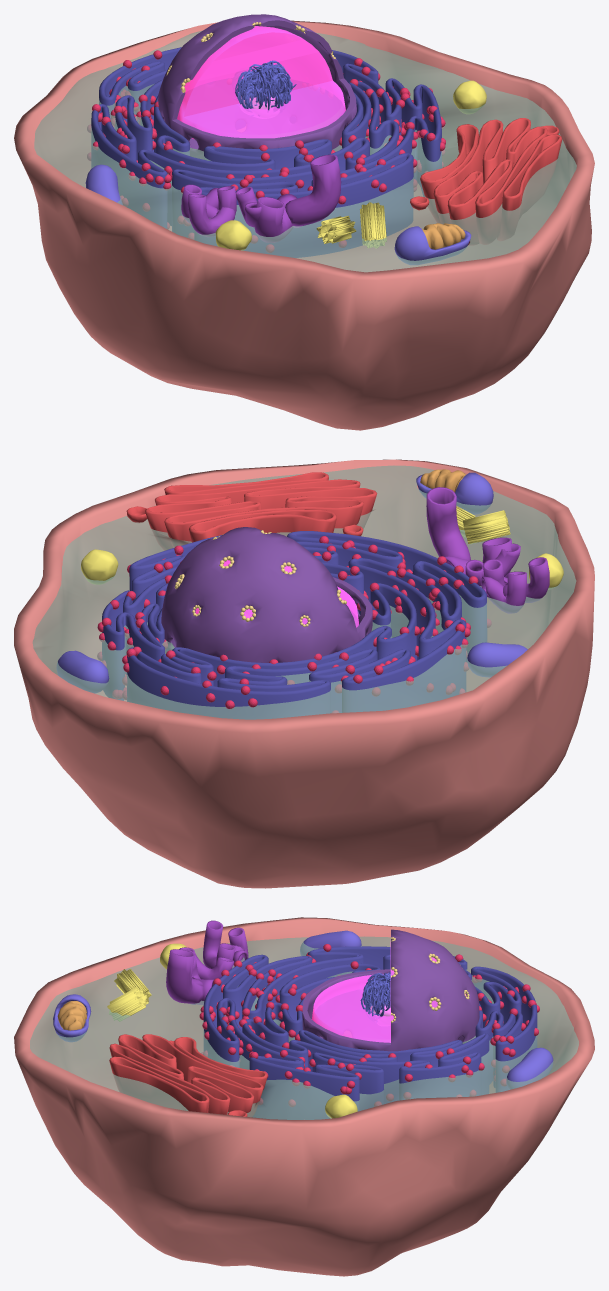
The model's file is animal-cell.glb.
The picture shows the model from 3 angles, top to bottom: view 1: azimuth 30°, elevation 25°; view 2: azimuth 150°, elevation 25°; view 3: azimuth 270°, elevation 25°; orthographic projection. The views are drawn at different scales.
Parts seen in each view (by area): view 1: PlasmaMembrane_mesh, Cytoplasm_mesh, RoughER_Membrane_mesh, Golgi_mesh, Nucleus_Nucleoplasm_mesh, Nucleus_Envelope_mesh, SmoothER.3_mesh, SmoothER.1_mesh, Mitochondrion.1_Outer_mesh, Nucleus_Chromatin_mesh.1, SmoothER.2_mesh, Centriole.2_mesh (+6 smaller); view 2: PlasmaMembrane_mesh, RoughER_Membrane_mesh, Cytoplasm_mesh, Nucleus_Envelope_mesh, Golgi_mesh, SmoothER.3_mesh, SmoothER.2_mesh, SmoothER.1_mesh, Mitochondrion.3_mesh, Mitochondrion.2_mesh, Mitochondrion.1_Outer_mesh, Centriole.1_mesh (+3 smaller); view 3: PlasmaMembrane_mesh, RoughER_Membrane_mesh, Cytoplasm_mesh, Nucleus_Envelope_mesh, Golgi_mesh, Nucleus_Nucleoplasm_mesh, SmoothER.3_mesh, SmoothER.1_mesh, Mitochondrion.3_mesh, Mitochondrion.2_mesh, Centriole.2_mesh, SmoothER.2_mesh (+5 smaller).
Boxes of the visible parts, x1=… form: PlasmaMembrane_mesh: x1=14, y1=20, x2=594, y2=430; Cytoplasm_mesh: x1=34, y1=31, x2=576, y2=272; RoughER_Membrane_mesh: x1=91, y1=47, x2=441, y2=257; Golgi_mesh: x1=410, y1=118, x2=562, y2=245; Nucleus_Nucleoplasm_mesh: x1=177, y1=26, x2=345, y2=139; Nucleus_Envelope_mesh: x1=158, y1=14, x2=356, y2=159; SmoothER.3_mesh: x1=254, y1=154, x2=341, y2=242; SmoothER.1_mesh: x1=188, y1=187, x2=261, y2=236; Mitochondrion.1_Outer_mesh: x1=394, y1=226, x2=471, y2=264; Nucleus_Chromatin_mesh.1: x1=235, y1=62, x2=291, y2=110; SmoothER.2_mesh: x1=181, y1=184, x2=236, y2=222; Centriole.2_mesh: x1=360, y1=202, x2=386, y2=248; PlasmaMembrane_mesh: x1=14, y1=459, x2=594, y2=888; RoughER_Membrane_mesh: x1=102, y1=531, x2=486, y2=719; Cytoplasm_mesh: x1=32, y1=465, x2=576, y2=719; Nucleus_Envelope_mesh: x1=161, y1=527, x2=372, y2=662; Golgi_mesh: x1=126, y1=472, x2=377, y2=550; SmoothER.3_mesh: x1=426, y1=487, x2=511, y2=577; SmoothER.2_mesh: x1=481, y1=559, x2=526, y2=613; SmoothER.1_mesh: x1=465, y1=543, x2=549, y2=602; Mitochondrion.3_mesh: x1=56, y1=650, x2=109, y2=693; Mitochondrion.2_mesh: x1=467, y1=642, x2=527, y2=677; Mitochondrion.1_Outer_mesh: x1=416, y1=472, x2=493, y2=514; Centriole.1_mesh: x1=462, y1=510, x2=510, y2=544; PlasmaMembrane_mesh: x1=14, y1=917, x2=594, y2=1276; RoughER_Membrane_mesh: x1=203, y1=946, x2=537, y2=1119; Cytoplasm_mesh: x1=30, y1=936, x2=578, y2=1119; Nucleus_Envelope_mesh: x1=302, y1=929, x2=479, y2=1051; Golgi_mesh: x1=109, y1=1034, x2=267, y2=1116; Nucleus_Nucleoplasm_mesh: x1=311, y1=941, x2=466, y2=1042; SmoothER.3_mesh: x1=166, y1=949, x2=213, y2=1004; SmoothER.1_mesh: x1=179, y1=920, x2=233, y2=979; Mitochondrion.3_mesh: x1=506, y1=1047, x2=553, y2=1089; Mitochondrion.2_mesh: x1=300, y1=930, x2=361, y2=955; Centriole.2_mesh: x1=107, y1=987, x2=148, y2=1021; SmoothER.2_mesh: x1=216, y1=927, x2=248, y2=967.
Size of the model in its own units: 5.96 by 3.98 by 7.04.
